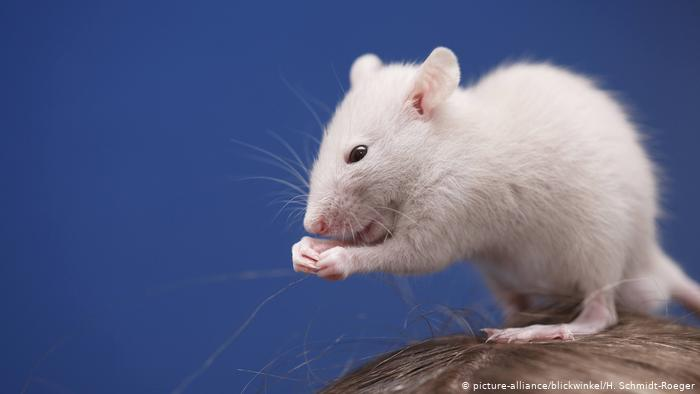rat: (248, 31, 546, 299)
